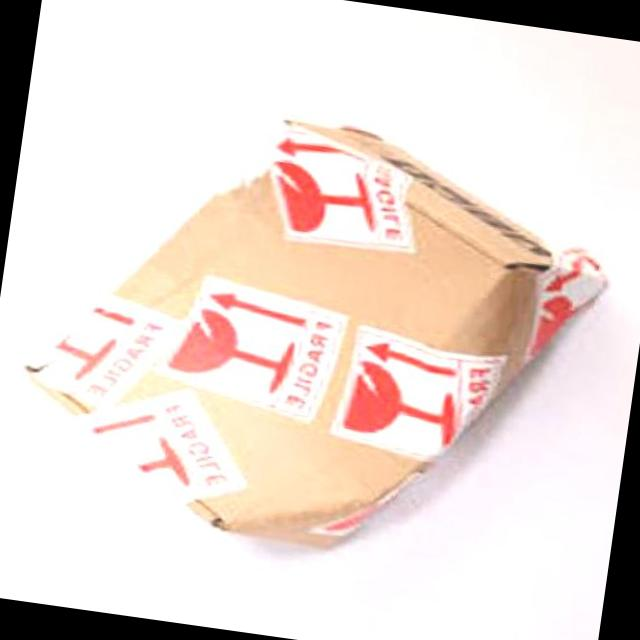box: (18, 150, 614, 617)
